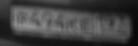license-plateSW: (10, 4, 132, 39)
